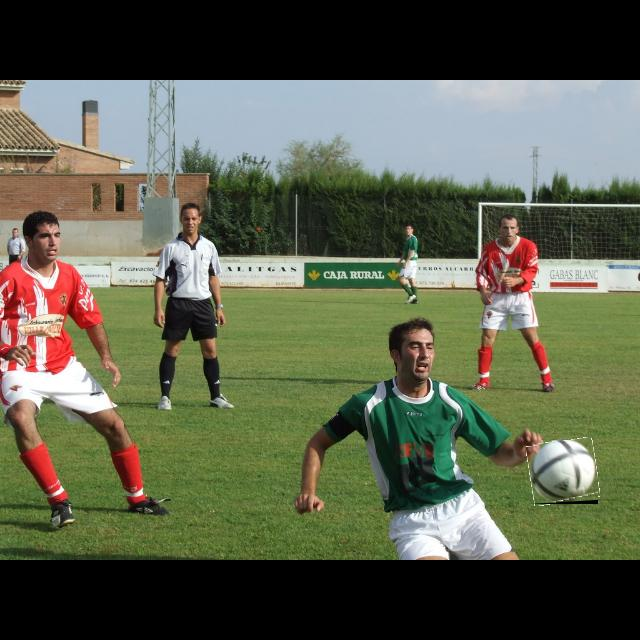Football: (528, 440, 598, 504)
